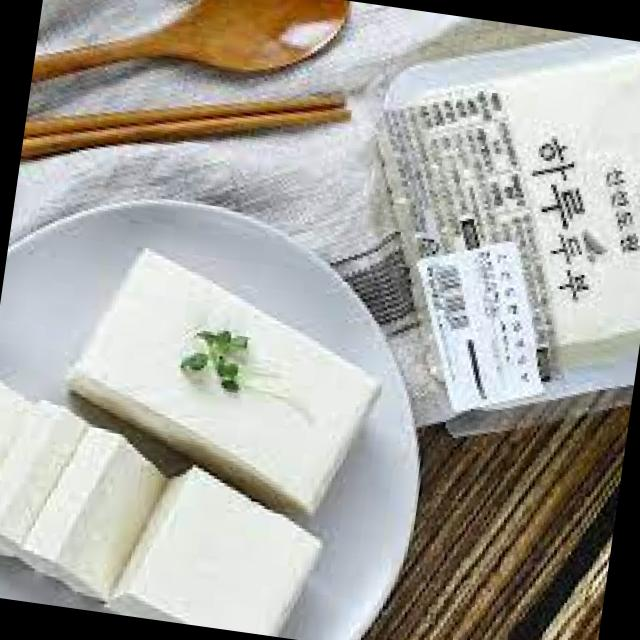tof: (0, 259, 402, 640)
